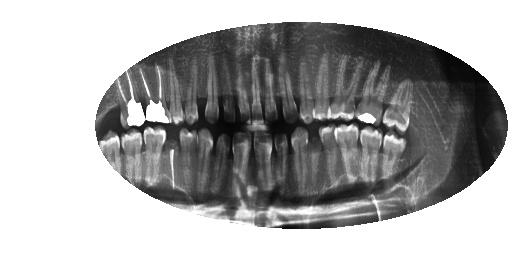i10decay: (262, 59, 277, 122)
i11decay: (277, 58, 299, 124)
i12healthy: (296, 55, 316, 125)
i13healthy: (312, 53, 332, 121)
i14healthy: (331, 51, 365, 121)
i15healthy: (353, 63, 394, 125)
i16healthy: (382, 78, 416, 135)
i1loss: (97, 84, 117, 130)
i2healthy: (118, 62, 143, 130)
i3healthy: (144, 63, 169, 122)
i4healthy: (167, 57, 185, 124)
i5healthy: (184, 57, 200, 125)
i6decay: (204, 52, 221, 124)
i7decay: (221, 55, 238, 123)
i8decay: (238, 57, 251, 123)
i9decay: (252, 58, 265, 123)
u10decay: (272, 133, 289, 189)
u11healthy: (290, 126, 309, 196)
u12chipped: (308, 132, 322, 193)
u13healthy: (318, 123, 339, 192)
u14healthy: (335, 122, 360, 184)
u15healthy: (359, 125, 383, 186)
u16healthy: (382, 132, 408, 185)
u1healthy: (98, 130, 122, 174)
u2healthy: (121, 131, 143, 180)
u3healthy: (142, 124, 164, 191)
u4chipped: (165, 136, 178, 195)
u5healthy: (179, 127, 197, 195)
u6healthy: (196, 126, 215, 194)
u7decay: (215, 133, 231, 193)
u8decay: (232, 131, 252, 194)
u9decay: (253, 132, 274, 196)
